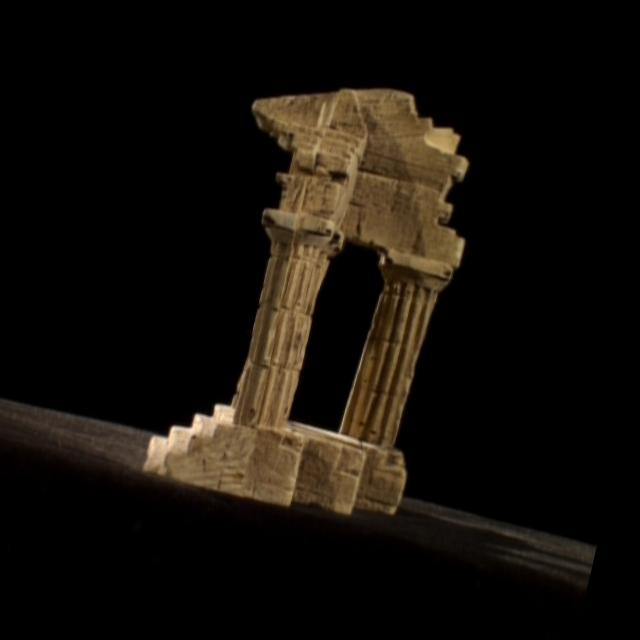Instance-Segmentation: (146, 89, 468, 513)
